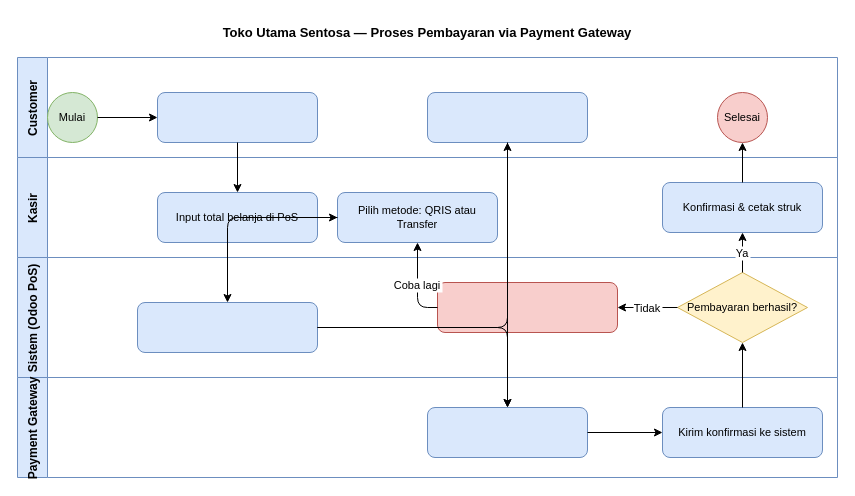
This 855x496 diagram has some shape labels left out. The shapes that lost their labels are listed below. From the top down, each one's centre as x and y in pixels, then its label:
At [237,117]: "Memilih metode pembayaran".
At [507,117]: "Scan QRIS / konfirmasi transfer".
At [227,327]: "Generate QRIS / info rekening transfer".
At [527,307]: "Tampilkan notif: pembayaran gagal".
At [507,432]: "Proses pembayaran".
